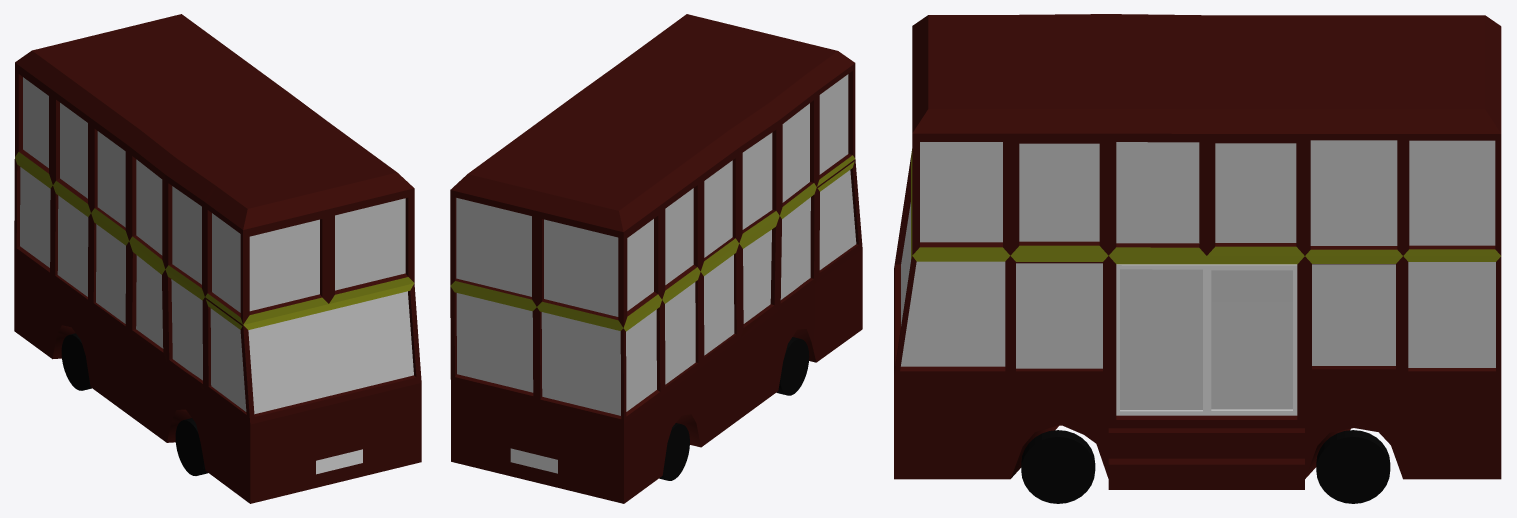
File: Bus(colour).fbx
3 renders of one model, left to right at view 1: azimuth 30°, elevation 25°; view 2: azimuth 150°, elevation 25°; view 3: azimuth 270°, elevation 25°, orthographic. The views are drawn at different scales.
Visible parts, largest first — view 1: Box001, Object, Object002, Circle003, Circle004, Plane001; view 2: Box001, Object, Object002, Circle003, Circle004, Plane002; view 3: Box001, Object, Object002, Circle001, Circle002, Object003.
Part boxes in pixels (box(x1,y1,x2,y2)): Box001: box(14, 14, 421, 503); Object: box(20, 77, 413, 414); Object002: box(15, 152, 414, 329); Circle003: box(175, 418, 207, 475); Circle004: box(61, 333, 91, 390); Plane001: box(316, 449, 362, 474); Box001: box(450, 14, 862, 503); Object: box(456, 74, 856, 415); Object002: box(450, 155, 854, 331); Circle003: box(776, 337, 809, 395); Circle004: box(659, 423, 689, 480); Plane002: box(510, 448, 557, 473); Box001: box(894, 14, 1501, 489); Object: box(901, 140, 1495, 411); Object002: box(911, 149, 1500, 264); Circle001: box(1316, 430, 1390, 503); Circle002: box(1021, 430, 1095, 503); Object003: box(1116, 265, 1297, 415).
Size of the model in its own units: 63.09 by 95.44 by 137.
